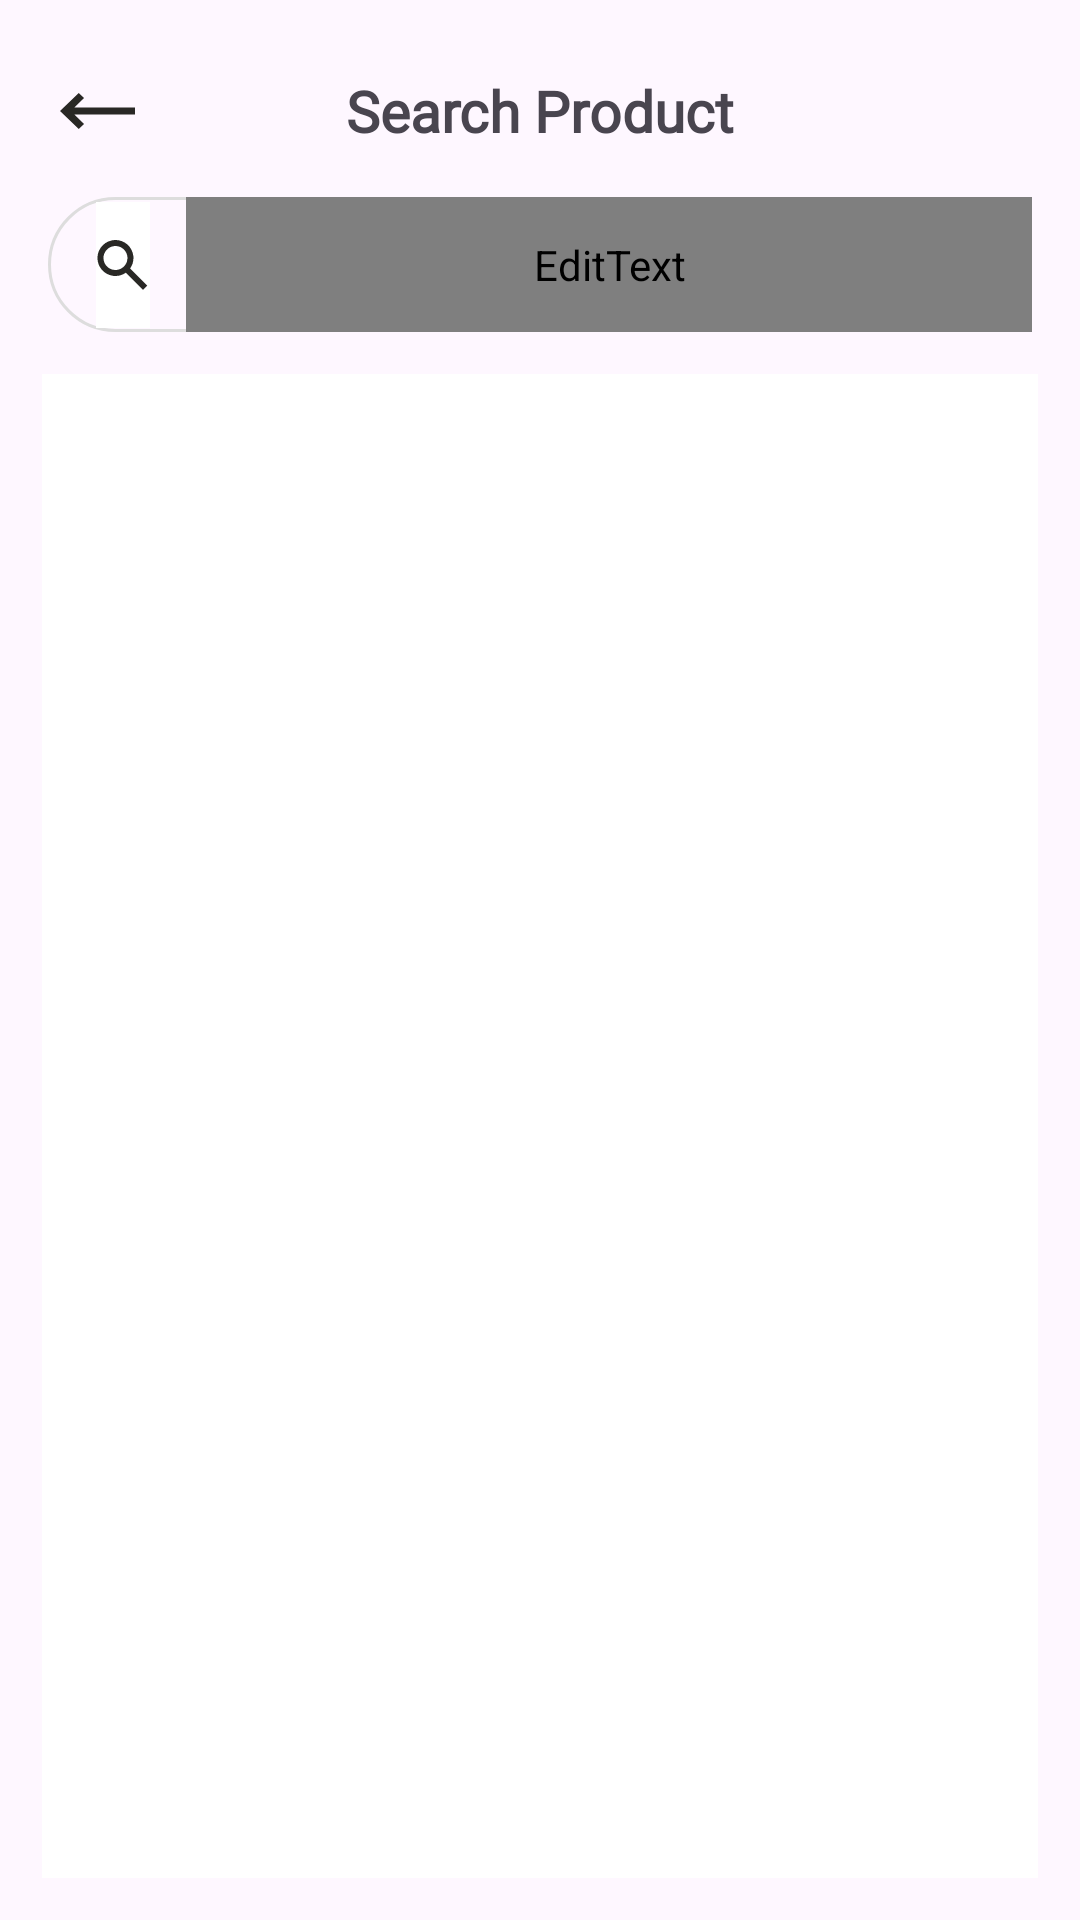

Icon bounding boxes for this 1080px x 1920px phone screenshot, format [x1=x1, y1=y1, x2=x2, y2=y2]:
left arrow: [x1=60, y1=93, x2=135, y2=129]
